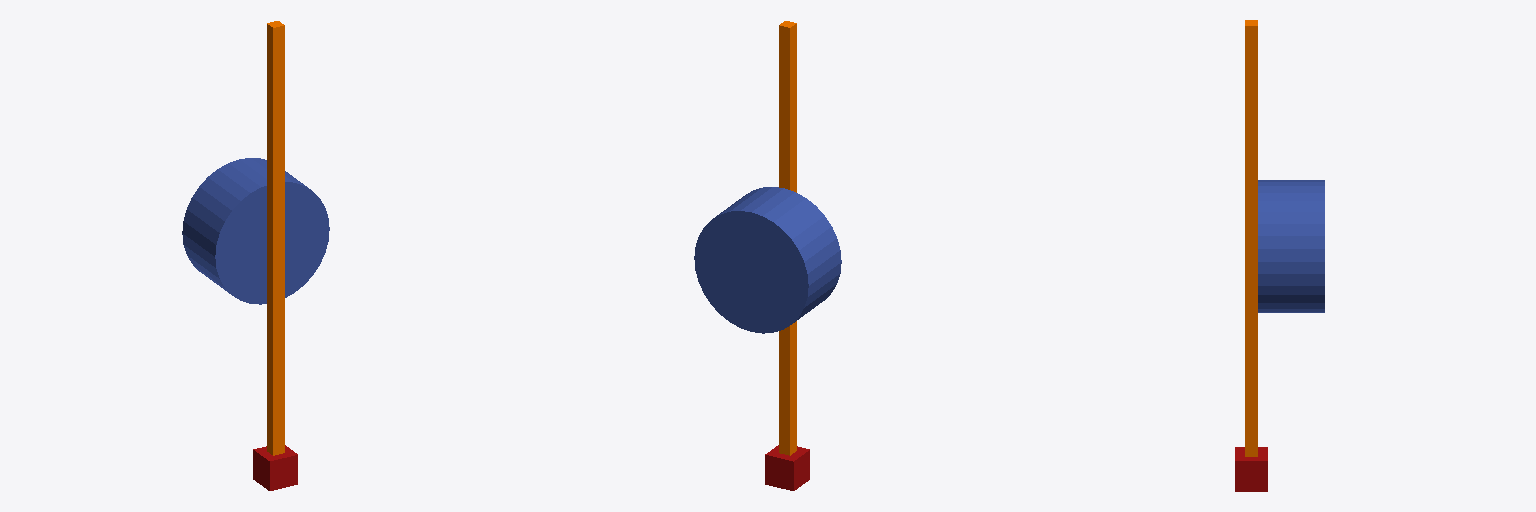
URDF robot description (pendulum):
<?xml version="1.0"?>
<!--
  Pendulum URDF for ABSOLUTE target tracking (no limits, continuous rotation).

  Physical setup (2026-04-22):
    - Bar: 0.74 m long, 0.313 kg, attached to motor at its MIDDLE (pivot)
      → bar extends ±0.37 m from pivot
    - Weight: 0.5 kg at ONE END of the bar (bottom, -0.37 m from pivot)
    - Total: 0.313 kg (bar) + 0.5 kg (weight) = 0.813 kg
    - COM offset: z = -0.228 m from pivot (pulled down by weight)
    - Gravity torque at horizontal: ~1.82 Nm — policy must compensate
    - Inertia about pivot:
        Bar:    (1/12)*0.313*(0.02² + 0.74²) = 0.01430 kg·m²
        Weight: 0.5 * 0.37²                   = 0.06845 kg·m²
        Total:                                  0.08275 kg·m²
    - Inertia about COM: 0.08275 − 0.813*0.228² = 0.04053 kg·m²
-->
<robot name="pendulum">

  <link name="base_link">
    <inertial>
      <mass value="0.001"/>
      <inertia ixx="0.000001" ixy="0" ixz="0" iyy="0.000001" iyz="0" izz="0.000001"/>
    </inertial>
  </link>

  <link name="motor_body">
    <visual>
      <origin xyz="0 0 0" rpy="1.57079632679 0 0"/>
      <geometry>
        <cylinder radius="0.1" length="0.1"/>
      </geometry>
      <material name="steel_blue">
        <color rgba="0.3 0.4 0.7 1.0"/>
      </material>
    </visual>
    <collision>
      <origin xyz="0 0 0" rpy="1.57079632679 0 0"/>
      <geometry>
        <cylinder radius="0.1" length="0.1"/>
      </geometry>
    </collision>
    <inertial>
      <mass value="0.01"/>
      <inertia ixx="0.00001" ixy="0" ixz="0" iyy="0.00001" iyz="0" izz="0.00001"/>
    </inertial>
  </link>

  <joint name="motor_body_joint" type="fixed">
    <parent link="base_link"/>
    <child link="motor_body"/>
    <origin xyz="0 0.06 1.2" rpy="0 0 0"/>
  </joint>

  <!--
    Pendulum = bar (centered on pivot) + weight (at bottom end).
    Two visuals, one inertial block with combined properties.
    COM offset from pivot makes gravity produce torque at non-vertical angles.
  -->
  <link name="pendulum_link">
    <!-- Visual 1: the orange bar (centered at pivot, extends ±0.37 m) -->
    <visual>
      <origin xyz="0 0 0" rpy="0 0 0"/>
      <geometry>
        <box size="0.02 0.02 0.74"/>
      </geometry>
      <material name="orange">
        <color rgba="1.0 0.5 0.0 1.0"/>
      </material>
    </visual>
    <collision>
      <origin xyz="0 0 0" rpy="0 0 0"/>
      <geometry>
        <box size="0.02 0.02 0.74"/>
      </geometry>
    </collision>

    <!-- Visual 2: the 0.5 kg weight attached at the bottom end (-0.37 m) -->
    <visual>
      <origin xyz="0 0 -0.37" rpy="0 0 0"/>
      <geometry>
        <box size="0.05 0.05 0.05"/>
      </geometry>
      <material name="dark_red">
        <color rgba="0.7 0.1 0.1 1.0"/>
      </material>
    </visual>
    <collision>
      <origin xyz="0 0 -0.37" rpy="0 0 0"/>
      <geometry>
        <box size="0.05 0.05 0.05"/>
      </geometry>
    </collision>

    <!--
      Combined inertial block:
        mass = 0.313 kg (bar) + 0.5 kg (weight) = 0.813 kg
        COM offset z = -0.228 m (below pivot, pulled by weight)
        I about COM on Y axis (rotation): 0.0405 kg·m²
          derived from I_pivot − m*d² = 0.0828 − 0.813*0.228² = 0.0405
    -->
    <inertial>
      <origin xyz="0 0 -0.228" rpy="0 0 0"/>
      <mass value="0.813"/>
      <inertia ixx="0.0405" ixy="0" ixz="0"
               iyy="0.0405" iyz="0"
               izz="0.0002"/>
    </inertial>
  </link>

  <!-- Very wide joint limits — allows continuous rotation in any direction -->
  <joint name="pendulum_joint" type="revolute">
    <parent link="base_link"/>
    <child link="pendulum_link"/>
    <origin xyz="0 0 1.2" rpy="0 0 0"/>
    <axis xyz="0 1 0"/>
    <limit lower="-1000.0" upper="1000.0" effort="20.0" velocity="16.02"/>
    <dynamics damping="0.065" friction="0.33"/>
  </joint>

</robot>

--- Facts derived from the render (not from the file) ---
The picture shows the robot from 3 angles, left to right: view 1: azimuth 30°, elevation 25°; view 2: azimuth 150°, elevation 25°; view 3: azimuth 270°, elevation 25°; orthographic projection.
Robot: pendulum — 3 links, 2 joints (1 revolute, 1 fixed); root link base_link; default pose: all joints at 0.
Links seen in each view (by area): view 1: motor_body, pendulum_link; view 2: motor_body, pendulum_link; view 3: motor_body, pendulum_link.
Link boxes in pixels (x1,y1,x2,y2): motor_body: [182, 158, 329, 304]; pendulum_link: [253, 21, 297, 490]; motor_body: [694, 187, 841, 333]; pendulum_link: [765, 21, 809, 490]; motor_body: [1258, 180, 1324, 312]; pendulum_link: [1235, 20, 1267, 491].
Bounding box of the posed robot: 0.2 × 0.135 × 0.765 m (x, y, z).
Geometry: primitives only (box / cylinder / sphere), no mesh files.
